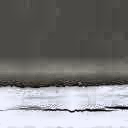crackTip: (1, 99, 128, 118)
